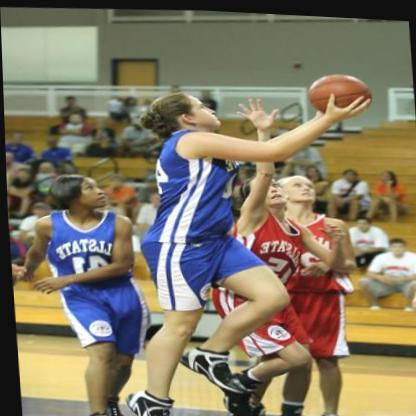basketball: (304, 66, 373, 118)
